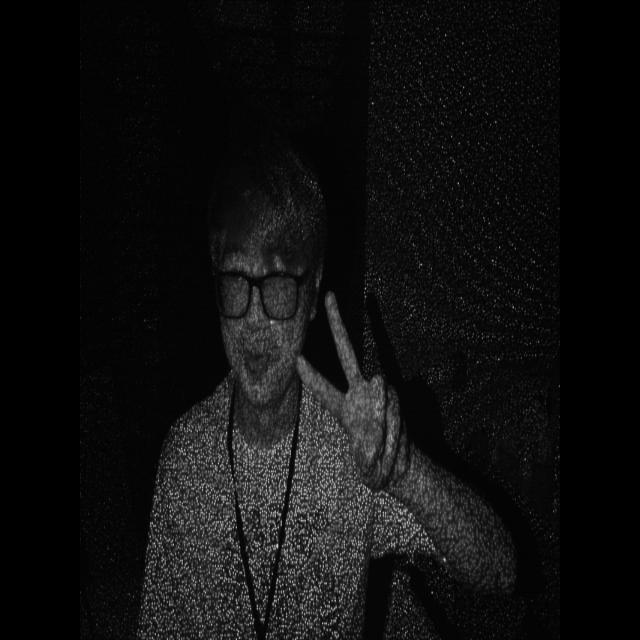V: (293, 294, 427, 510)
